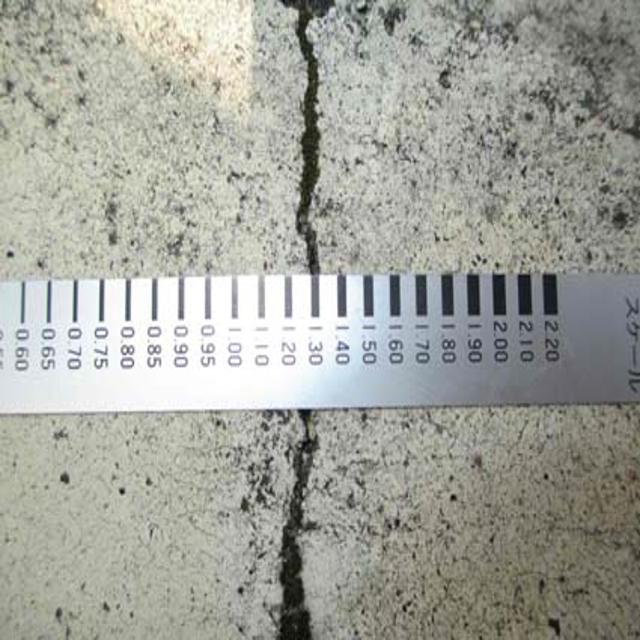crack: (270, 3, 346, 291), (252, 418, 330, 640)
